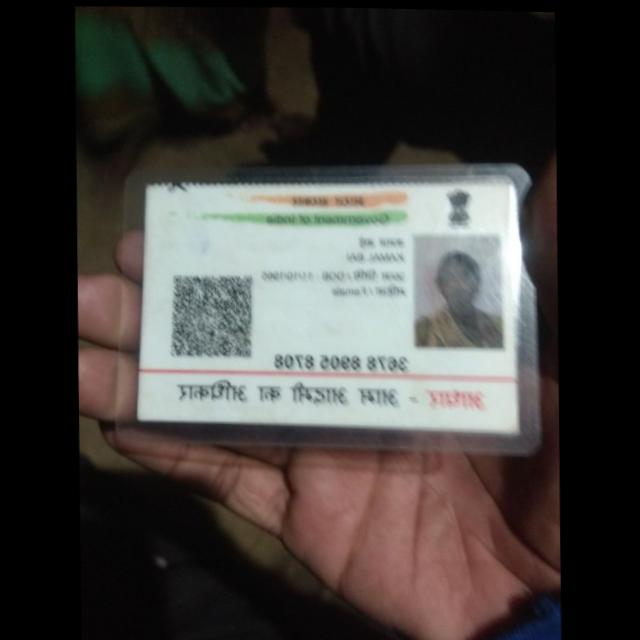aadhaar: (127, 167, 532, 448)
